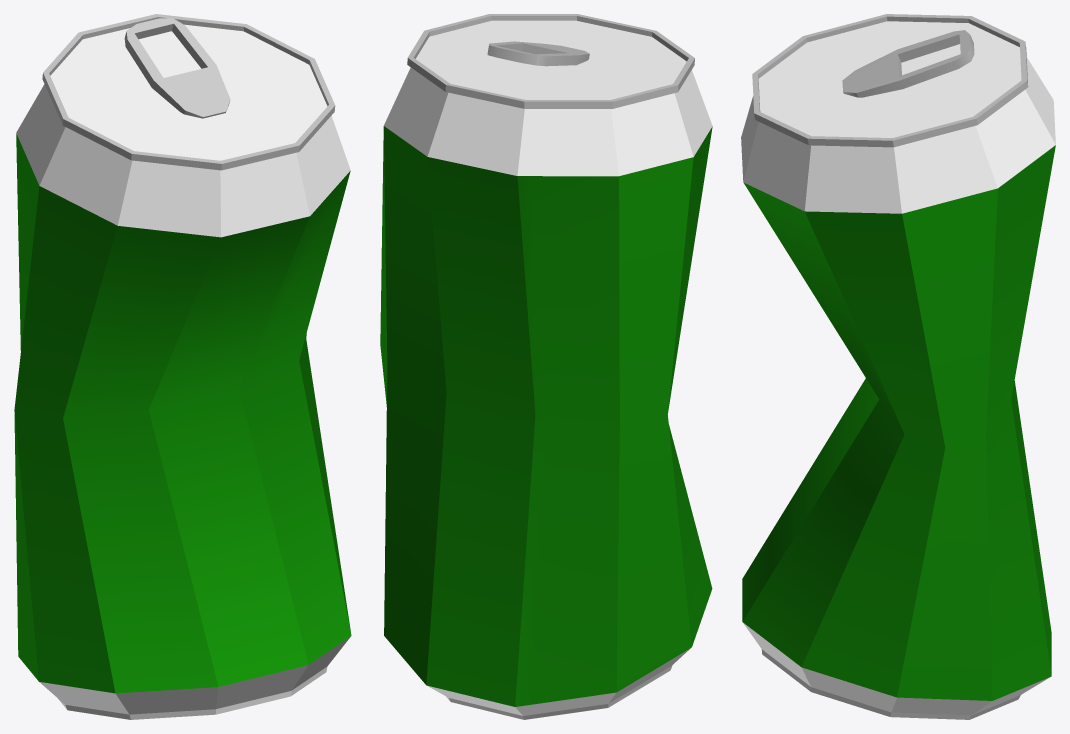
The model's file is crushedcan_c.fbx.
3 renders of one model, left to right at view 1: azimuth 30°, elevation 25°; view 2: azimuth 150°, elevation 25°; view 3: azimuth 270°, elevation 25°, orthographic.
Parts seen in each view (by area): view 1: CrushedCan_C; view 2: CrushedCan_C; view 3: CrushedCan_C.
Boxes of the visible parts, x1,y1,x2,y2 form: CrushedCan_C: [14, 14, 351, 719]; CrushedCan_C: [380, 14, 712, 719]; CrushedCan_C: [741, 14, 1055, 719].
Size of the model in its own units: 0.098 by 0.2089 by 0.0929.
